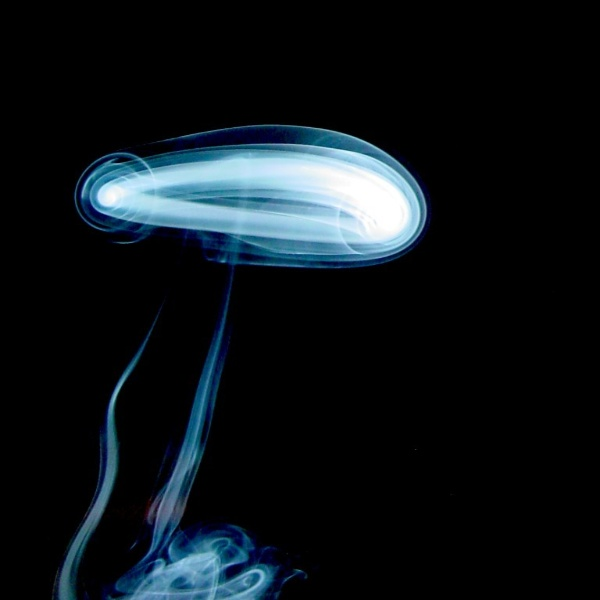Jellyfish: (56, 115, 443, 284)
